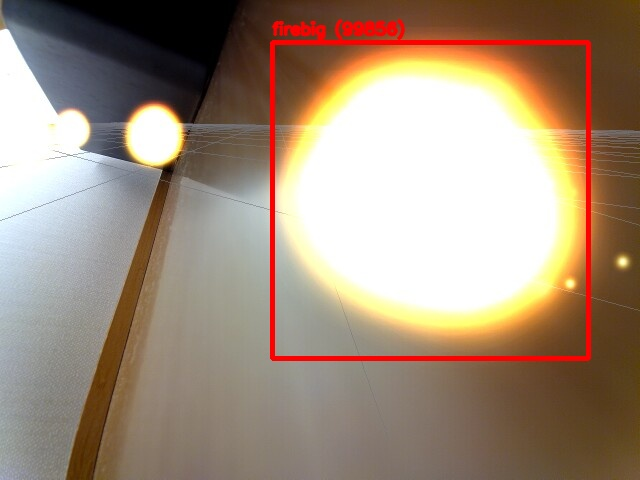firebig: (272, 42, 588, 358)
